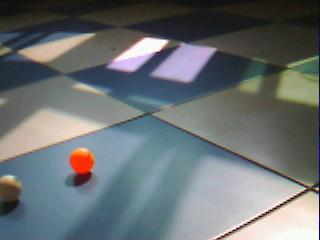oball: (69, 148, 94, 173)
